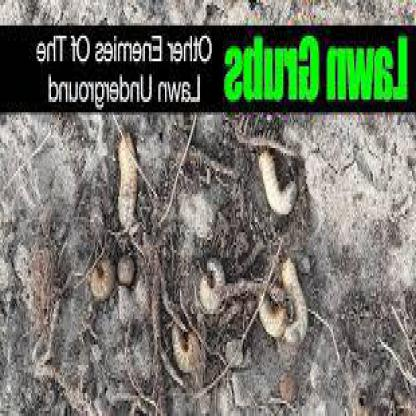root grubs: (256, 153, 298, 217), (282, 259, 307, 345), (118, 135, 139, 232), (198, 260, 225, 310)
